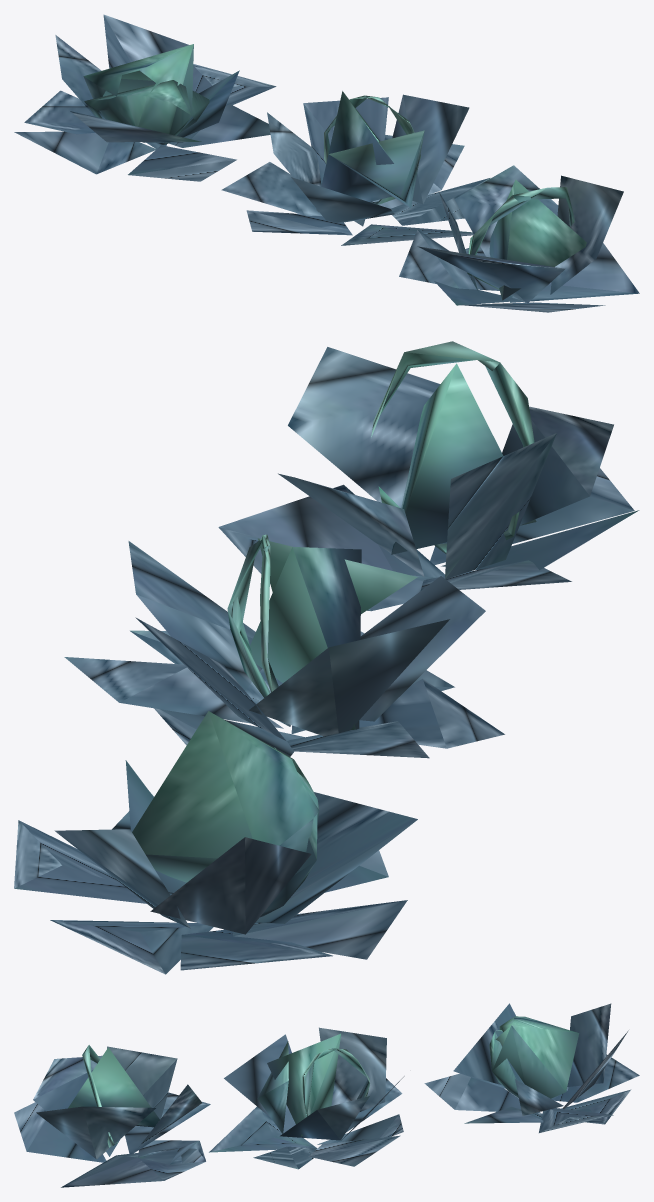
Rendered from ch-choux-semis.glb.
The picture shows the model from 3 angles, top to bottom: view 1: azimuth 30°, elevation 25°; view 2: azimuth 150°, elevation 25°; view 3: azimuth 270°, elevation 25°; orthographic projection. The views are drawn at different scales.
Visible parts, largest first — view 1: ch-choux-semis; view 2: ch-choux-semis; view 3: ch-choux-semis.
Part boxes in pixels (left/top/right/bottom): ch-choux-semis: left=14, top=14, right=639, bottom=312; ch-choux-semis: left=14, top=341, right=639, bottom=974; ch-choux-semis: left=14, top=1003, right=639, bottom=1187.
Size of the model in its own units: 1.06 by 0.3985 by 2.01.
1 material, 1 textured.
